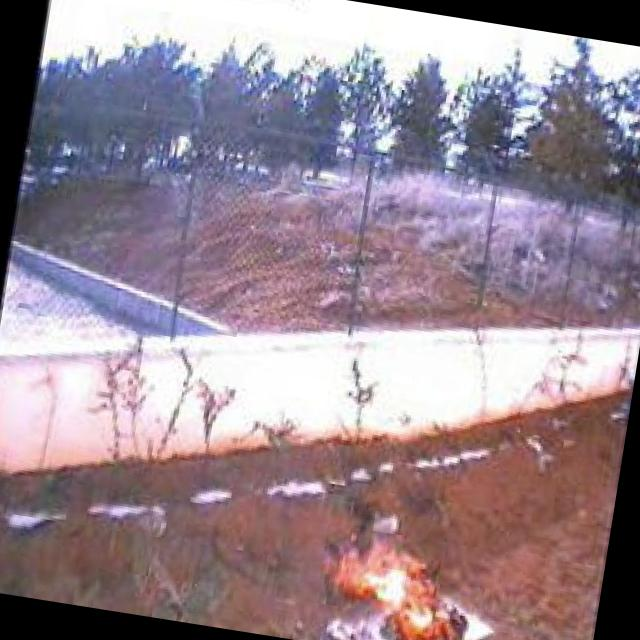Fire: (312, 514, 485, 640)
